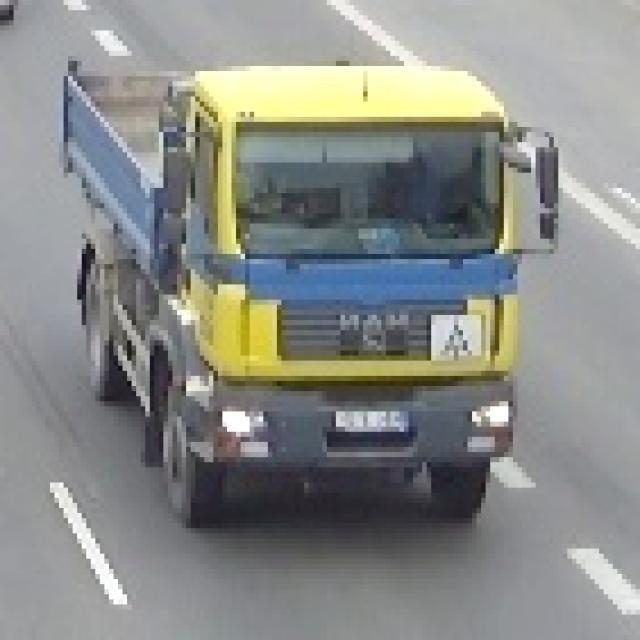truck: (55, 47, 555, 519)
